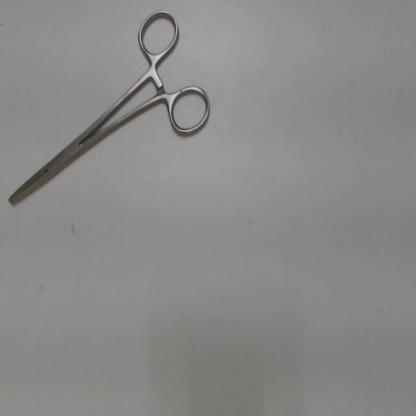Mayo Needle Holder: (2, 3, 220, 219)
